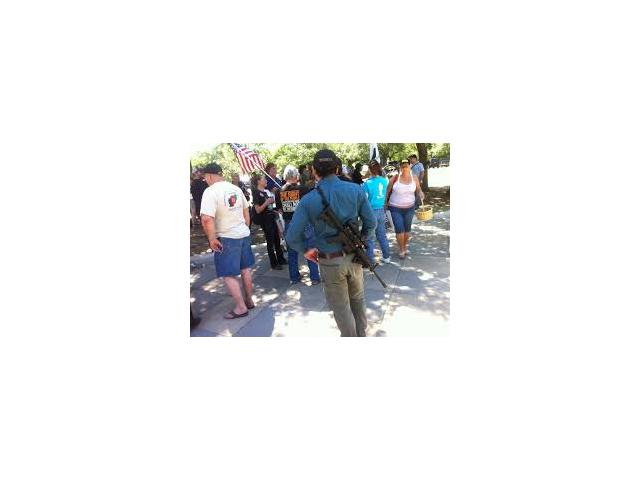rifle: (314, 203, 392, 292)
